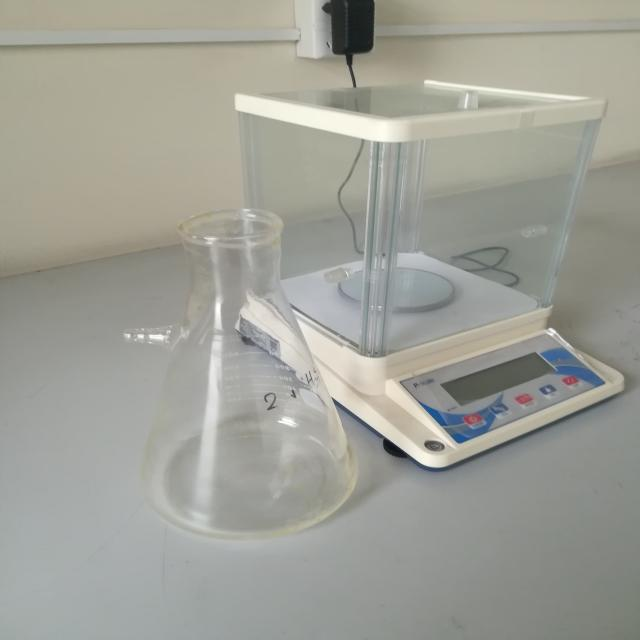Conical_Flask: (76, 176, 432, 564)
